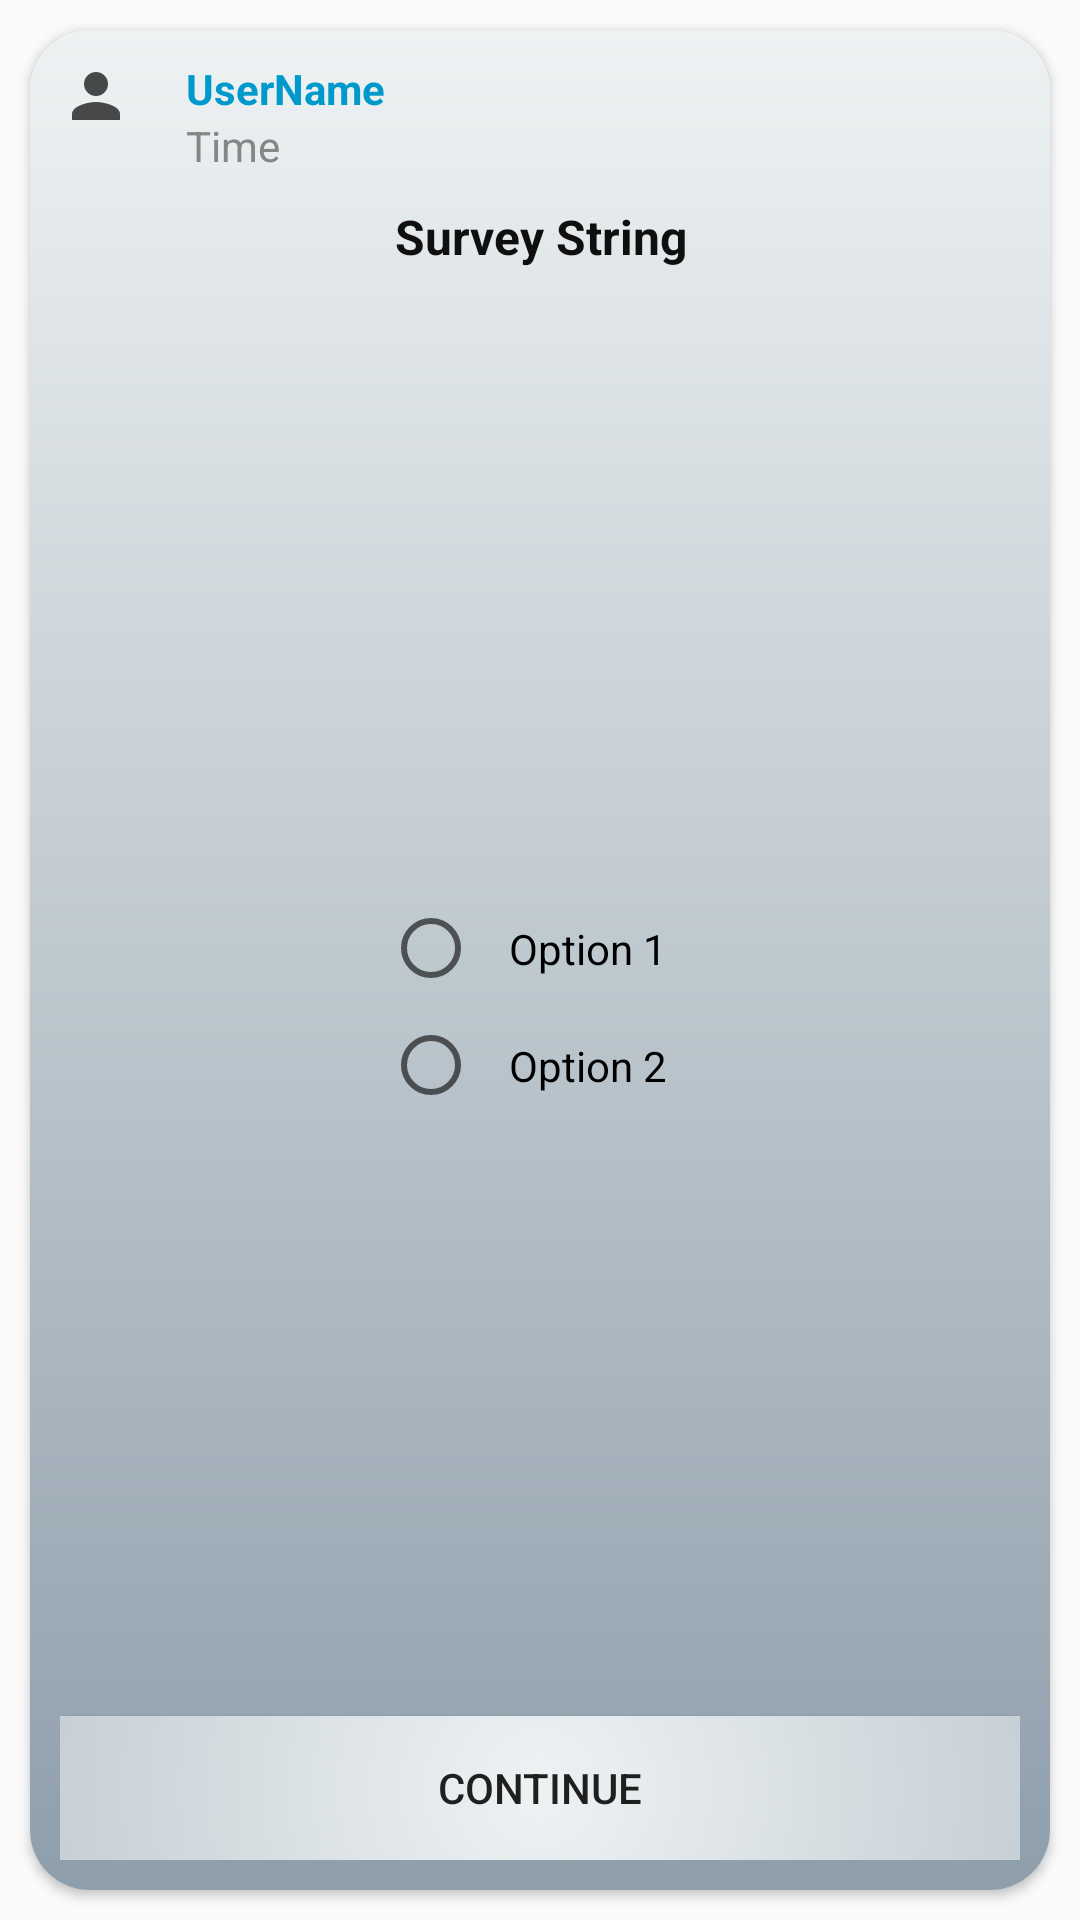

Icon bounding boxes for this 1080px x 1920px phone screenshot, format (x1, y1, x2, y2):
person: (72, 72, 120, 120)
